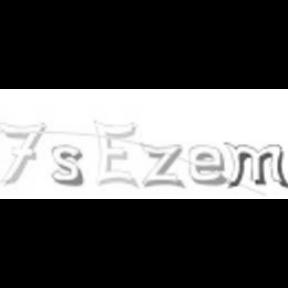7: (0, 122, 48, 188)
E: (92, 118, 138, 188)
e: (188, 143, 226, 187)
m: (224, 141, 288, 189)
s: (50, 144, 84, 186)
z: (140, 142, 184, 188)
